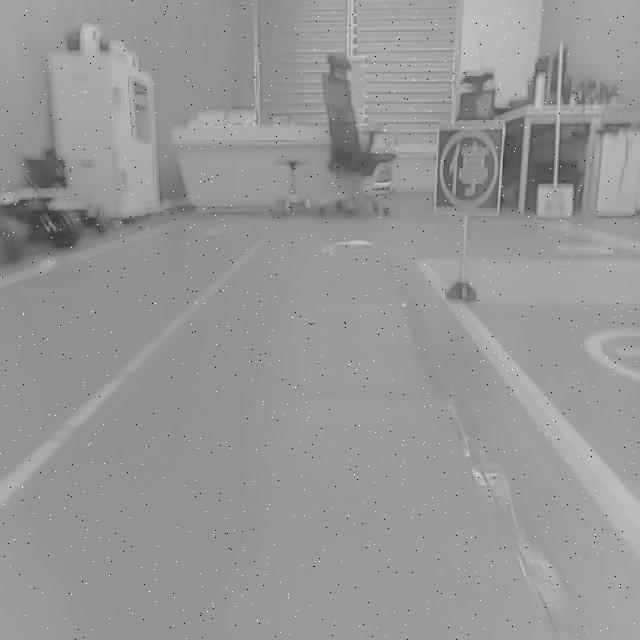left_lane: (0, 237, 267, 505)
right_lane: (420, 264, 640, 558)
